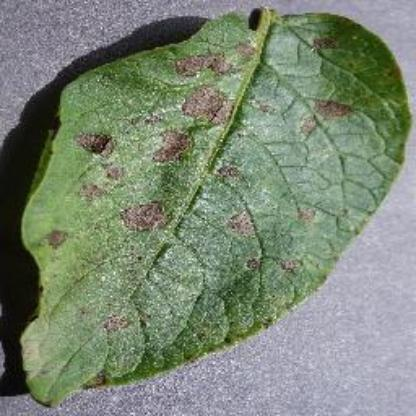Early-Blight: (18, 9, 413, 405)
